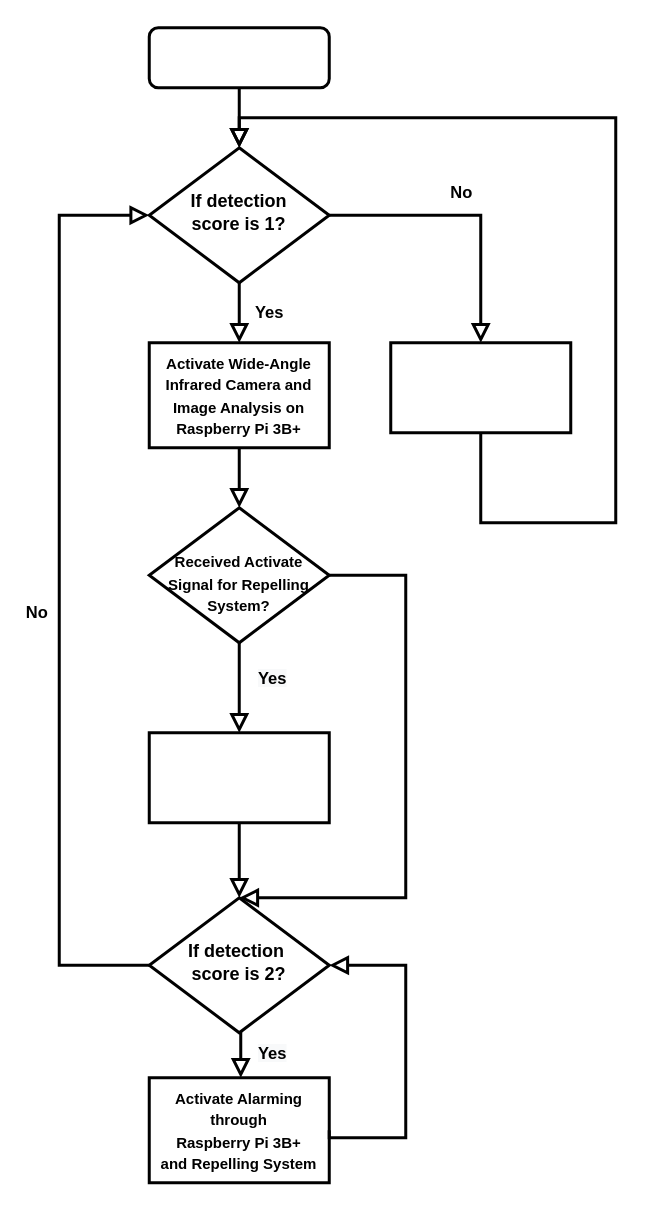
Some shapes in this 659 by 1209 pixel diagram are drawn without their labels. Here are the shapes that lost their labels. From the top down, the centre of each, then its label:
At pixel 238 57: "Initialization of Seismic Sensing".
At pixel 480 387: "Sleep Wide-Angle Infrared Camera and Repelling System".
At pixel 238 777: "Activate Repelling System".
